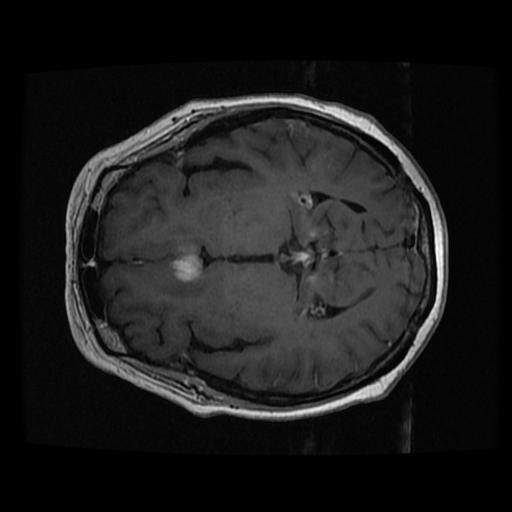meningioma: (169, 245, 202, 286)
